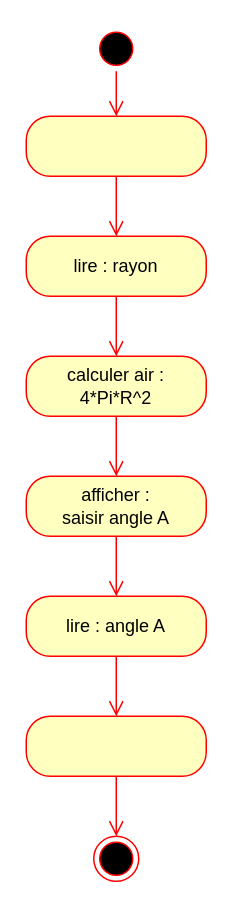
Some shapes in this 233 by 908 pixel diagram are drawn without their labels. The centre of each missing label's shape, as x and y in pixels:
"afficher : saisir rayon" belongs at (x=115, y=145).
"calculer surface angulaire : (Pi*R^2*A)/360" belongs at (x=115, y=745).
